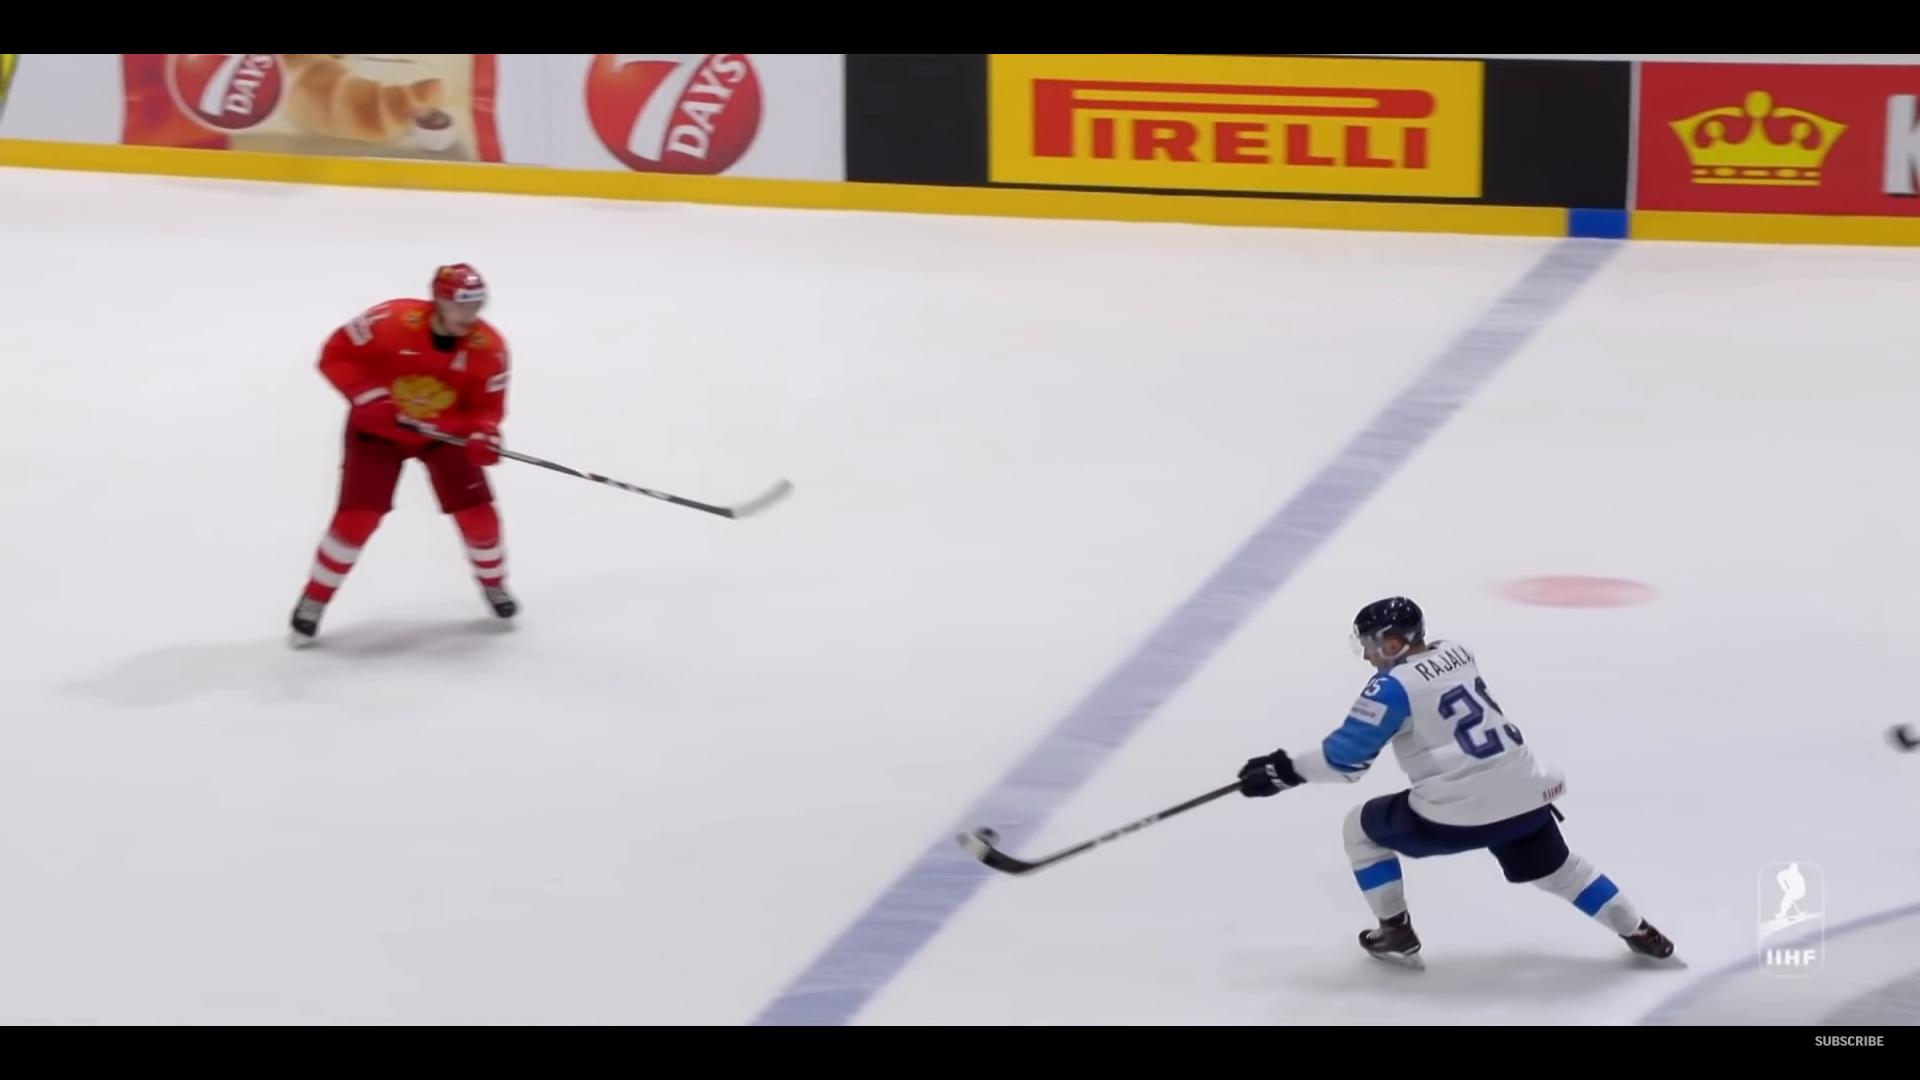puck: (977, 825, 998, 844)
